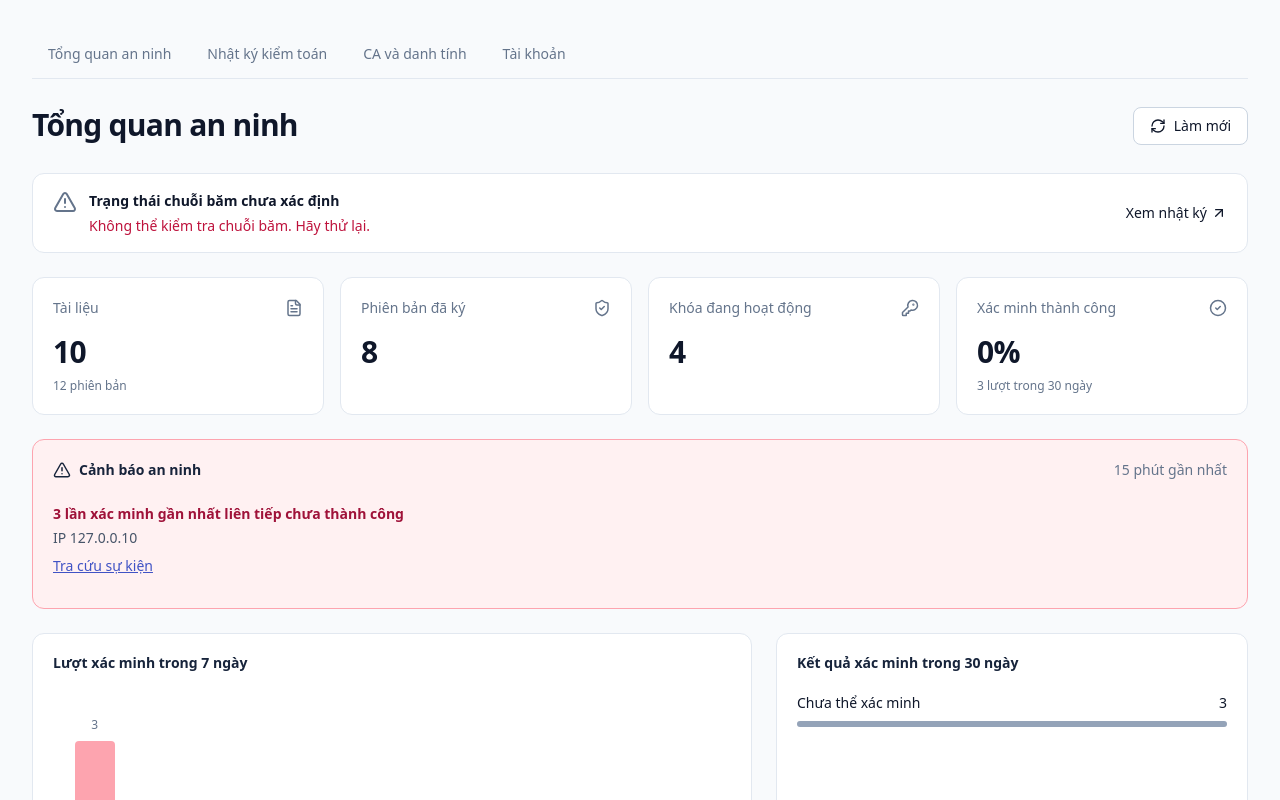
Security dashboard › shows an unknown chain on fetch failure and supports retry
Check: the message shows "Không thể kiểm tra chuỗi băm", box [89,216,370,235]
Check: the text "AUDIT LOG INTACT" is not shown
Click the button "Làm mới".
click(1190, 126)  # box [1133,107,1248,145]
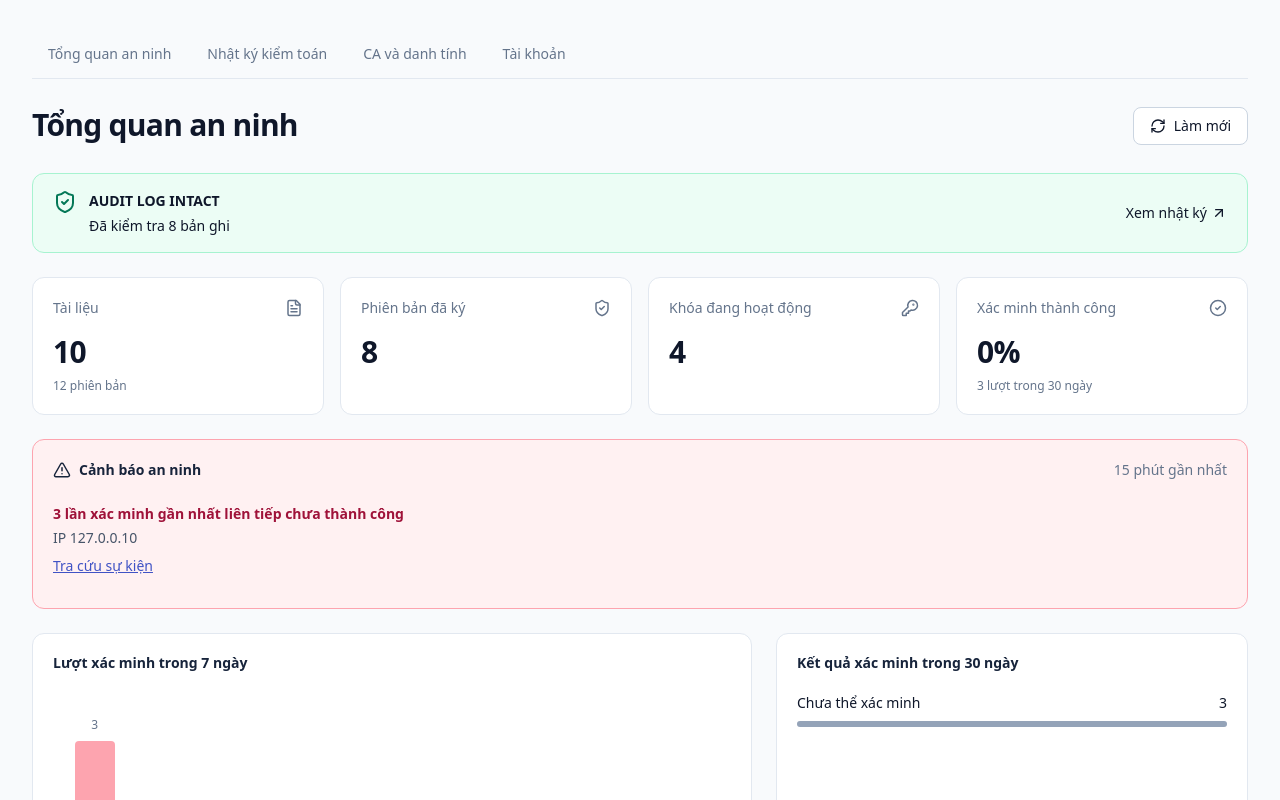
Check: the text "AUDIT LOG INTACT" is shown, box [89,190,230,212]
